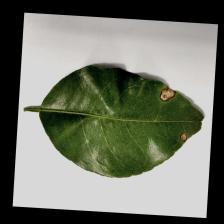canker: (127, 85, 196, 151)
